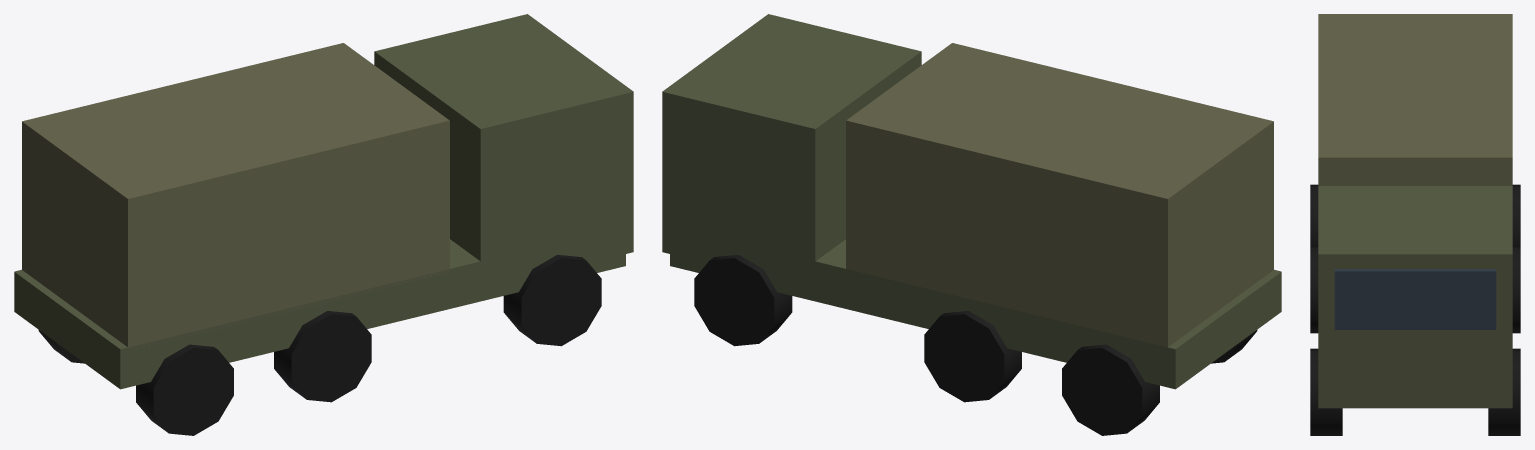
File: truck.glb
3 renders of one model, left to right at view 1: azimuth 30°, elevation 25°; view 2: azimuth 150°, elevation 25°; view 3: azimuth 270°, elevation 25°, orthographic. The views are drawn at different scales.
Visible parts, largest first — view 1: Canvas, Cab, Chassis, Wheel2, Wheel4, Wheel6; view 2: Canvas, Cab, Chassis, Wheel, Wheel3, Wheel5; view 3: Canvas, Cab, Windscreen, Chassis, Wheel, Wheel2, Wheel3, Wheel4, Wheel5, Wheel6.
Part boxes in pixels (x1=…): Canvas: x1=22, y1=43, x2=449, y2=350; Cab: x1=374, y1=14, x2=633, y2=264; Chassis: x1=14, y1=233, x2=625, y2=389; Wheel2: x1=503, y1=254, x2=601, y2=346; Wheel4: x1=274, y1=311, x2=371, y2=402; Wheel6: x1=136, y1=344, x2=233, y2=435; Canvas: x1=846, y1=43, x2=1273, y2=347; Cab: x1=662, y1=14, x2=921, y2=286; Chassis: x1=670, y1=226, x2=1281, y2=389; Wheel: x1=694, y1=254, x2=792, y2=346; Wheel3: x1=924, y1=311, x2=1021, y2=402; Wheel5: x1=1062, y1=344, x2=1159, y2=435; Canvas: x1=1318, y1=14, x2=1512, y2=185; Cab: x1=1318, y1=186, x2=1512, y2=400; Windscreen: x1=1334, y1=269, x2=1496, y2=329; Chassis: x1=1318, y1=401, x2=1512, y2=408; Wheel: x1=1488, y1=348, x2=1520, y2=435; Wheel2: x1=1310, y1=348, x2=1342, y2=435; Wheel3: x1=1512, y1=246, x2=1520, y2=333; Wheel4: x1=1310, y1=246, x2=1318, y2=333; Wheel5: x1=1512, y1=184, x2=1520, y2=245; Wheel6: x1=1310, y1=184, x2=1318, y2=245.
Size of the model in its own units: 6.77 by 3.1 by 2.6.
